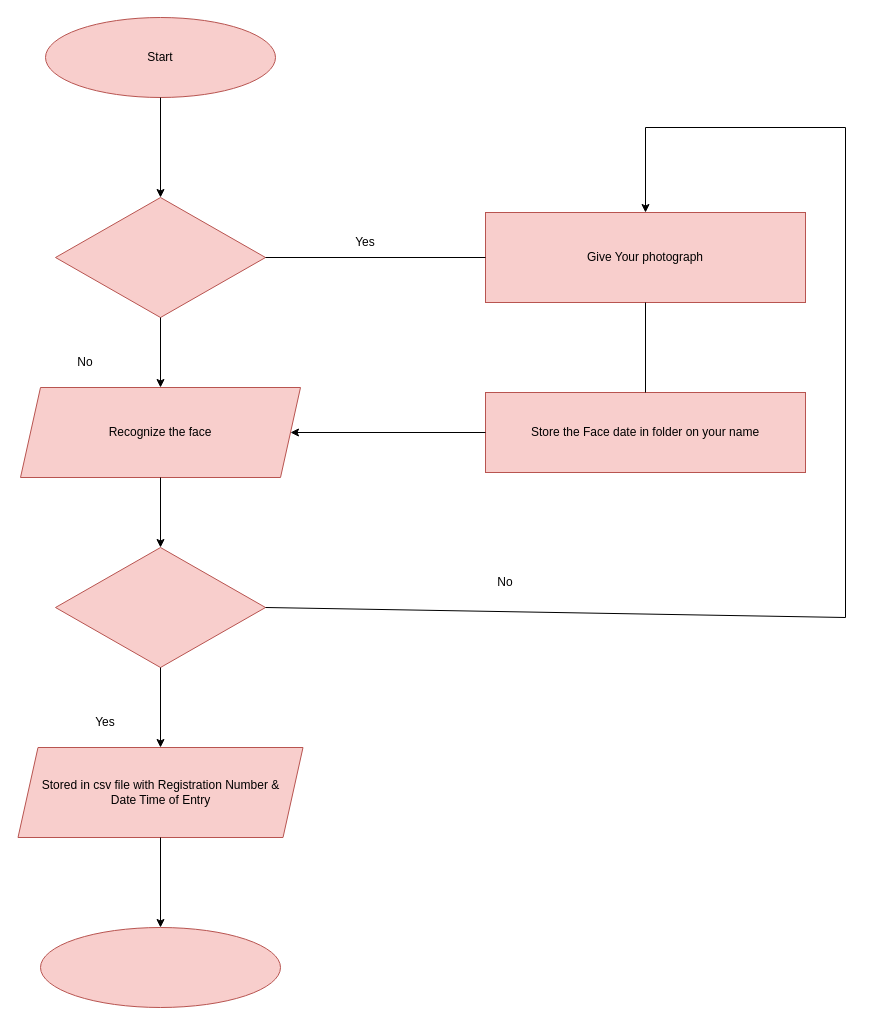
Some shapes in this 871 by 1025 pixel diagram are drawn without their labels. The shapes that lost their labels are listed below. From the top down, each one's box as (x1, y1, x2, y2) in pixels, then its label:
(54, 196, 266, 318): New User?
(54, 546, 266, 668): Face Recognized
(40, 926, 280, 1008): End
